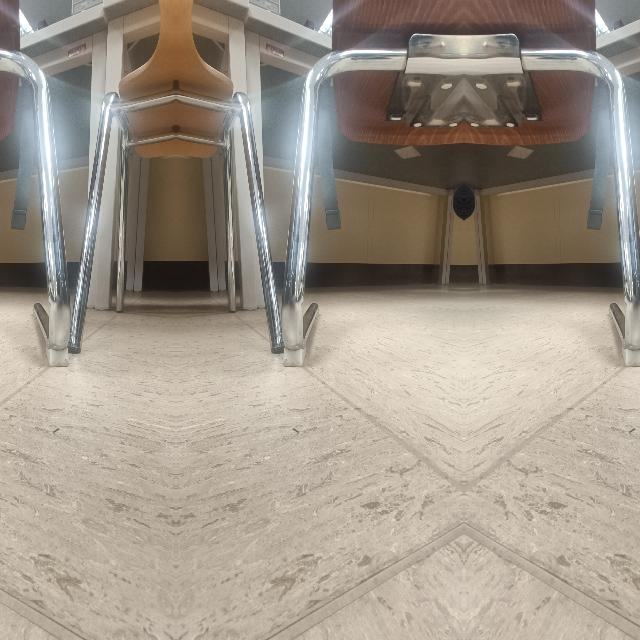obstacle: (242, 164, 330, 366), (20, 164, 108, 366), (598, 163, 640, 366)
